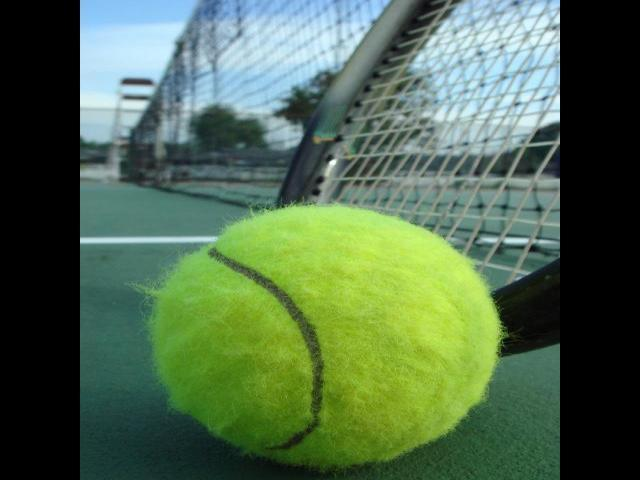tennis-ball: (150, 204, 502, 470)
